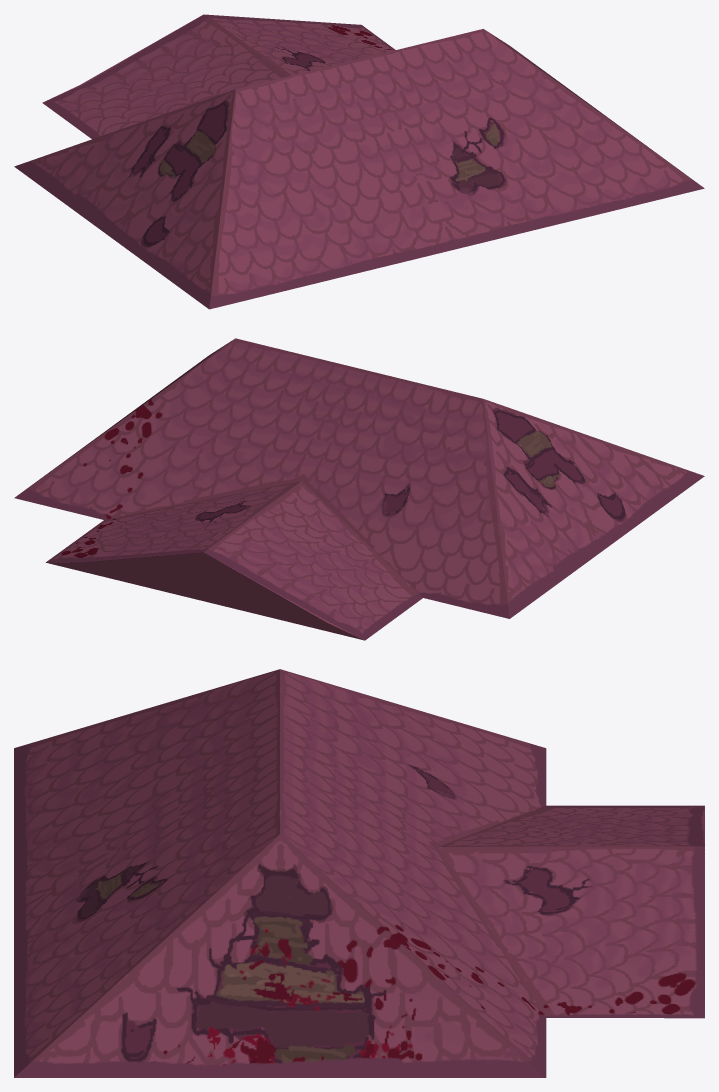
Rendered from Krov_1.fbx.
3 views of the same model, one above another, from view 1: azimuth 30°, elevation 25°; view 2: azimuth 150°, elevation 25°; view 3: azimuth 270°, elevation 25° (orthographic). The views are drawn at different scales.
Parts seen in each view (by area): view 1: Krov_1; view 2: Krov_1; view 3: Krov_1.
Part boxes in pixels (bbox=[...]): Krov_1: bbox=[14, 14, 704, 309]; Krov_1: bbox=[14, 338, 704, 640]; Krov_1: bbox=[14, 669, 704, 1077].
Bounding box in the file's own units: 494 × 113 × 437.
1 material, 1 textured.
